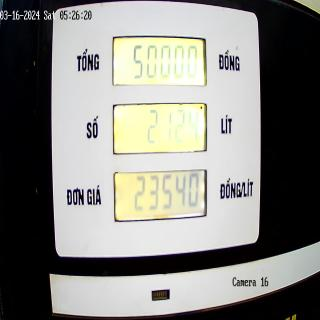screen: (112, 28, 209, 228)
